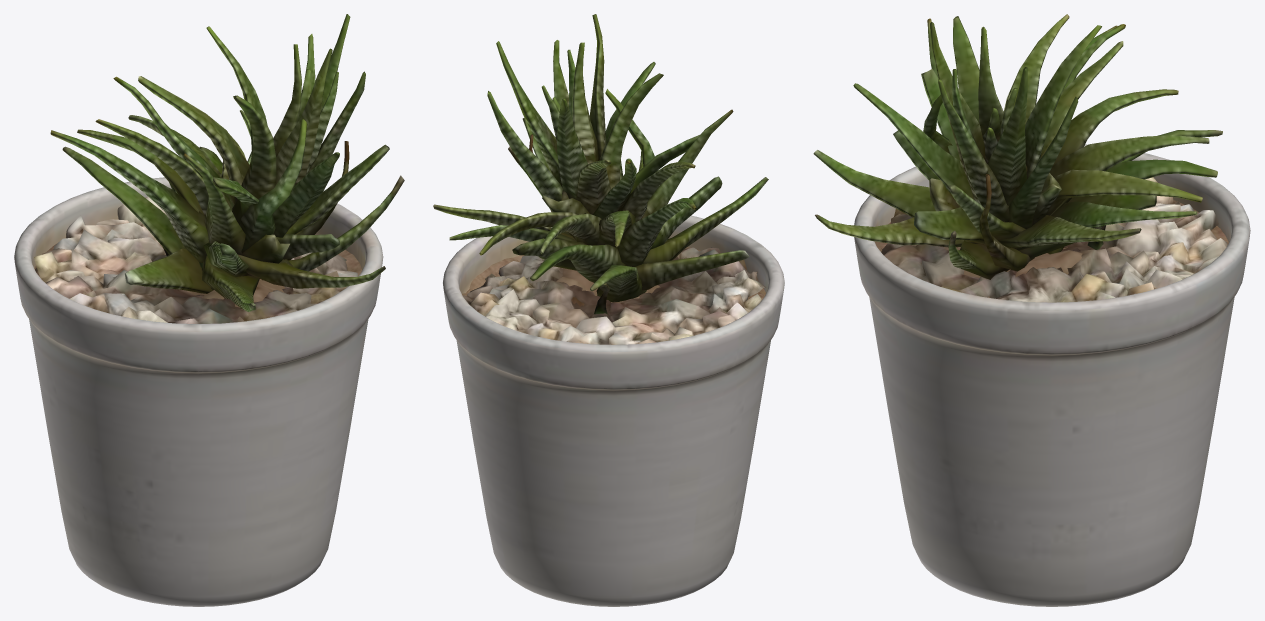
3 renders of one model, left to right at view 1: azimuth 30°, elevation 25°; view 2: azimuth 150°, elevation 25°; view 3: azimuth 270°, elevation 25°, orthographic. The views are drawn at different scales.
Visible parts, largest first — view 1: potted_plant_04_pot, potted_plant_04_plant, potted_plant_04_ground, potted_plant_04_dirt; view 2: potted_plant_04_pot, potted_plant_04_plant, potted_plant_04_ground, potted_plant_04_dirt; view 3: potted_plant_04_pot, potted_plant_04_plant, potted_plant_04_ground, potted_plant_04_dirt.
Part boxes in pixels (x1,y1,x2,y2): potted_plant_04_pot: (14,177,383,606); potted_plant_04_plant: (50,14,404,311); potted_plant_04_ground: (34,196,357,323); potted_plant_04_dirt: (34,238,362,307); potted_plant_04_pot: (443,215,784,606); potted_plant_04_plant: (433,14,768,314); potted_plant_04_ground: (463,247,765,344); potted_plant_04_dirt: (462,247,765,306); potted_plant_04_pot: (854,144,1250,606); potted_plant_04_plant: (813,14,1222,279); potted_plant_04_ground: (881,177,1227,302); potted_plant_04_dirt: (875,200,1228,297).
Bounding box in the file's own units: 0.1679 × 0.2675 × 0.1848.
Materials: 1 (1 with a texture image).
